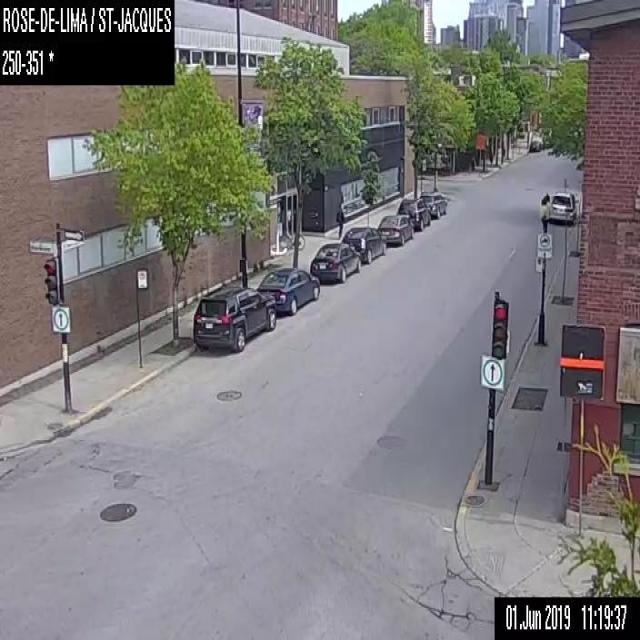pedestrian: (334, 202, 344, 238)
vehicle: (191, 287, 277, 353), (257, 268, 319, 315), (310, 242, 361, 286), (343, 226, 386, 264), (396, 198, 431, 231), (378, 214, 412, 247), (548, 191, 576, 224), (419, 190, 448, 218), (527, 135, 544, 152)
